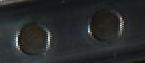joints: (86, 5, 126, 44), (14, 19, 54, 57)
